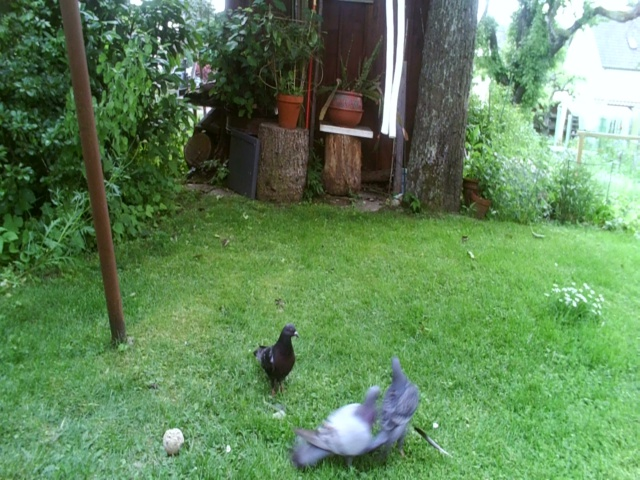Pigeon: (291, 385, 388, 470), (378, 352, 422, 455), (253, 323, 309, 399)
